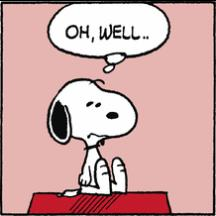snoopy: (44, 74, 140, 198)
